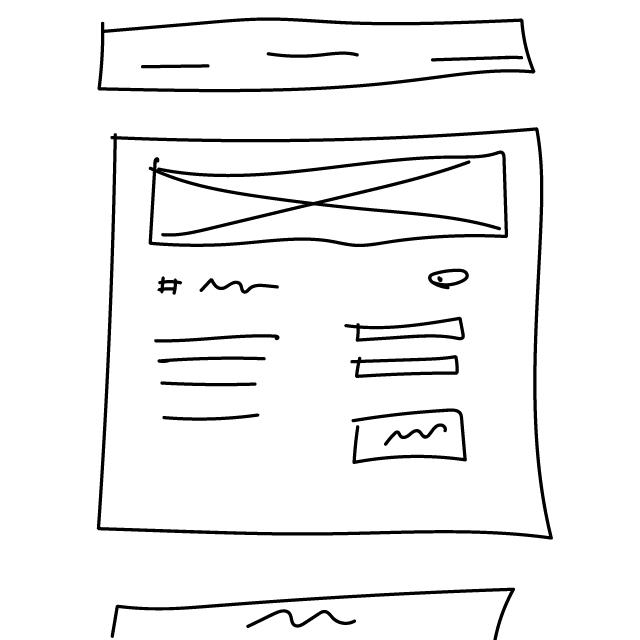button: (348, 406, 473, 470)
checkbox: (429, 266, 472, 292)
container: (90, 119, 571, 555)
footer: (104, 580, 519, 640)
frame: (146, 146, 514, 252)
heading: (145, 274, 284, 303)
input: (346, 318, 467, 345), (348, 352, 463, 380)
nav: (96, 14, 541, 97)
text: (149, 328, 284, 427)
